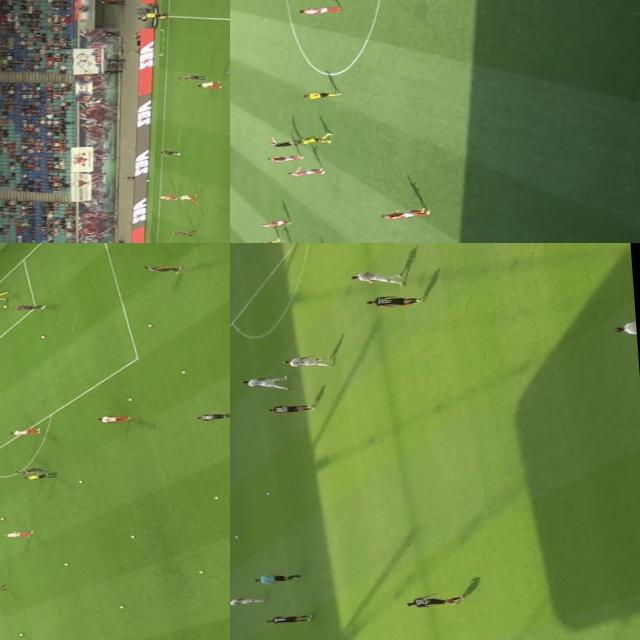ball: (172, 150, 182, 156), (60, 560, 68, 566), (212, 494, 220, 500), (38, 334, 48, 338), (76, 479, 85, 483), (196, 568, 203, 573), (145, 322, 152, 327), (17, 632, 25, 636), (128, 534, 135, 538), (117, 604, 124, 608), (1, 303, 8, 307), (125, 396, 134, 399), (263, 490, 269, 494), (232, 534, 238, 538), (179, 370, 185, 372), (0, 516, 4, 519)
player: (352, 268, 401, 288), (242, 372, 290, 392), (402, 592, 466, 606), (364, 292, 420, 306), (284, 354, 331, 368), (265, 401, 312, 414), (378, 208, 428, 220), (296, 1, 341, 14), (302, 87, 341, 100), (294, 132, 333, 145), (143, 261, 182, 274), (264, 152, 302, 164), (288, 165, 323, 178), (268, 614, 310, 624), (230, 595, 262, 605), (195, 411, 230, 420), (157, 146, 182, 158), (176, 72, 208, 81), (156, 190, 180, 202), (8, 428, 44, 436), (258, 218, 292, 226), (14, 466, 48, 474), (4, 529, 34, 538), (13, 302, 46, 310), (174, 192, 200, 202), (97, 414, 129, 422), (197, 79, 220, 89), (169, 228, 197, 236), (247, 238, 287, 243), (221, 62, 230, 72), (132, 239, 154, 243), (0, 291, 8, 300), (0, 584, 9, 592)
